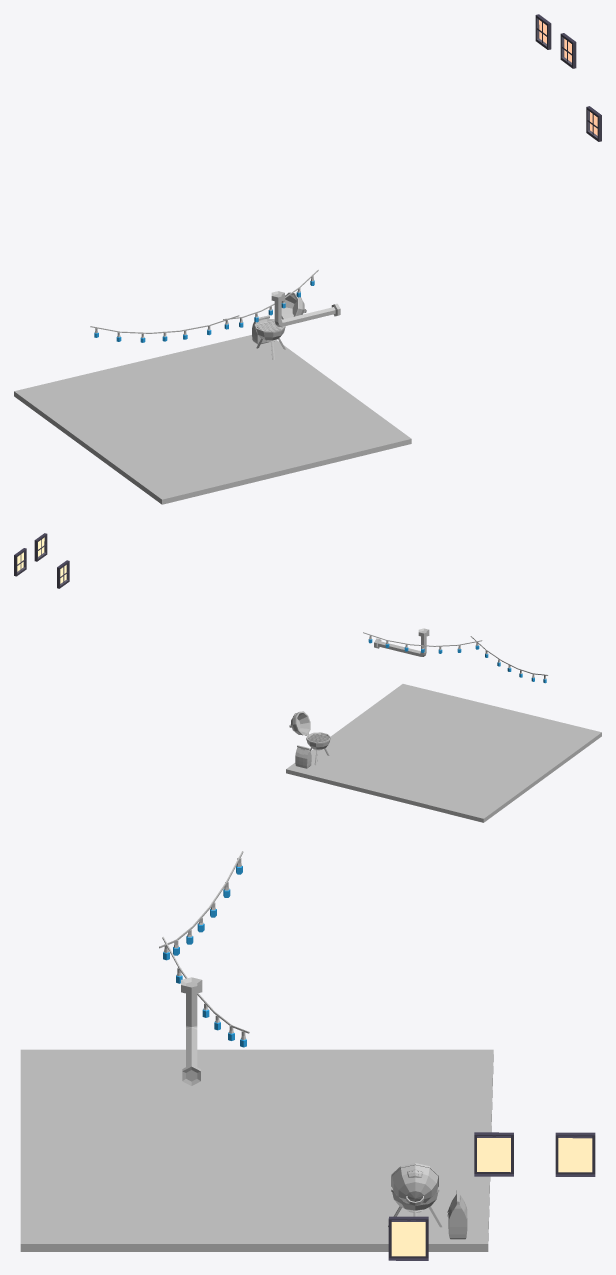
File: CMF2Objects.fbx
3 renders of one model, top to bottom at view 1: azimuth 30°, elevation 25°; view 2: azimuth 150°, elevation 25°; view 3: azimuth 270°, elevation 25°, orthographic. The views are drawn at different scales.
Visible parts, largest first — view 1: ConcreteSlab.004, Window.010, BarDecor.003, BarDecor.002; view 2: ConcreteSlab.004, Window.010, BarDecor.003, BarDecor.002, bbqbottom, bbqtop; view 3: ConcreteSlab.004, Window.010, BarDecor.003, bbqtop, BarDecor.002, FoodBag.001.
Boxes of the visible parts, x1,y1,x2,y2 form: ConcreteSlab.004: (14,335,411,504); Window.010: (535,14,601,141); BarDecor.003: (90,269,318,342); BarDecor.002: (271,291,340,326); ConcreteSlab.004: (286,684,601,822); Window.010: (14,533,69,588); BarDecor.003: (363,632,548,683); BarDecor.002: (374,628,429,656); bbqbottom: (306,732,330,765); bbqtop: (289,711,310,735); ConcreteSlab.004: (20,1049,493,1251); Window.010: (388,1132,595,1260); BarDecor.003: (159,851,249,1047); bbqtop: (391,1163,438,1205); BarDecor.002: (181,977,202,1085); FoodBag.001: (447,1189,467,1239).
Size of the model in its own units: 4218 by 1607 by 2352.
